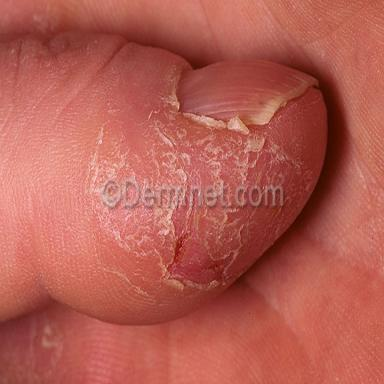eczema: (82, 64, 315, 296)
